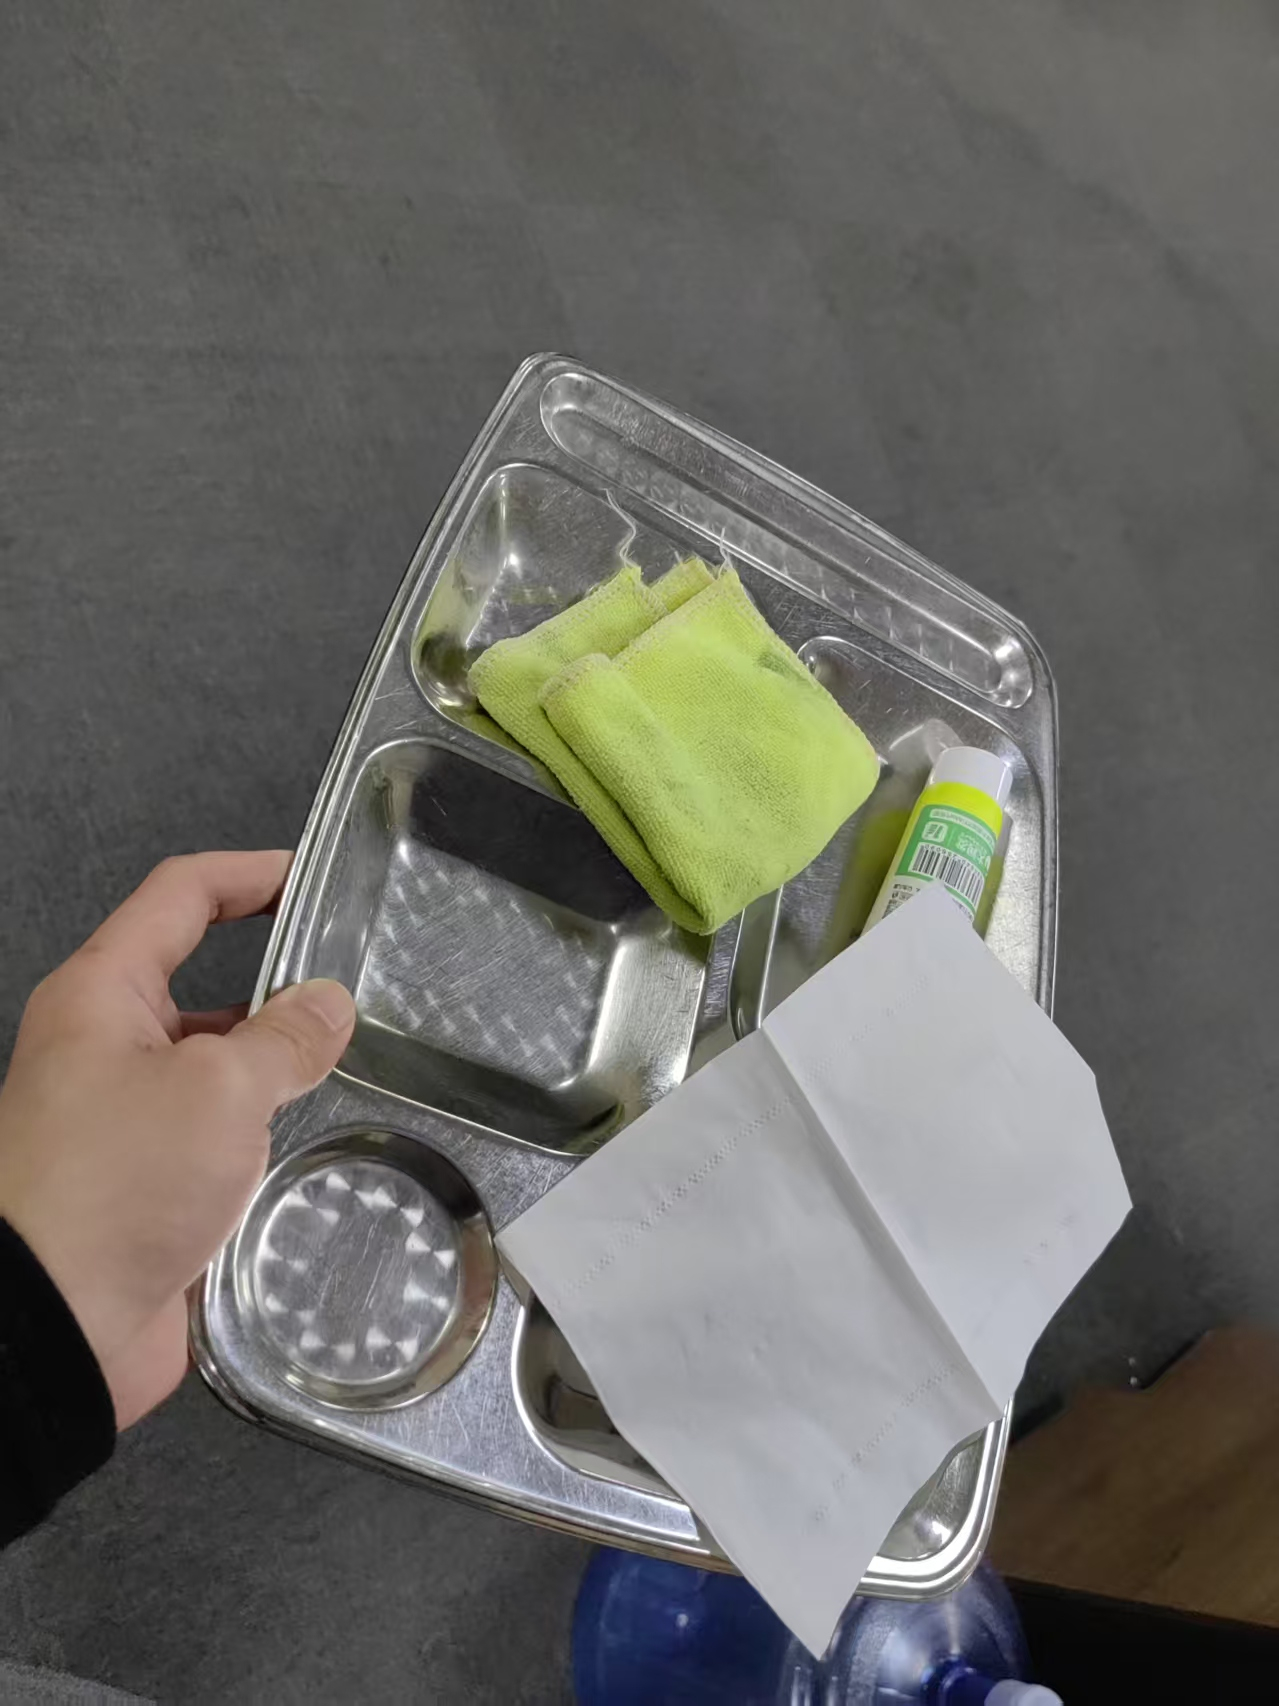mild: (472, 549, 1016, 1193)
plate: (187, 347, 1062, 1598)
tissue: (495, 880, 1139, 1657)
